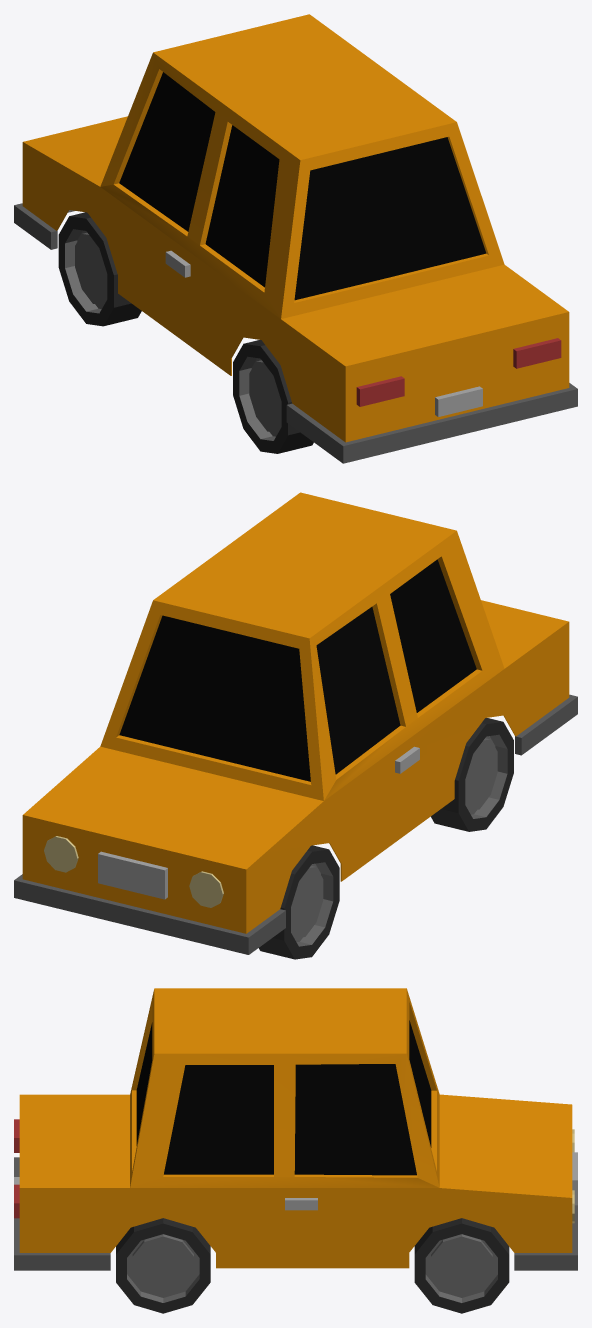
Rendered from Car Sedan.fbx.
The picture shows the model from 3 angles, top to bottom: view 1: azimuth 30°, elevation 25°; view 2: azimuth 150°, elevation 25°; view 3: azimuth 270°, elevation 25°; orthographic projection. The views are drawn at different scales.
Parts seen in each view (by area): view 1: Car_Sedan1; view 2: Car_Sedan1; view 3: Car_Sedan1.
Part boxes in pixels (<box>): Car_Sedan1: <box>14,14,577,463</box>; Car_Sedan1: <box>14,492,577,959</box>; Car_Sedan1: <box>14,988,577,1313</box>.
Size of the model in its own units: 210 by 245 by 510.
